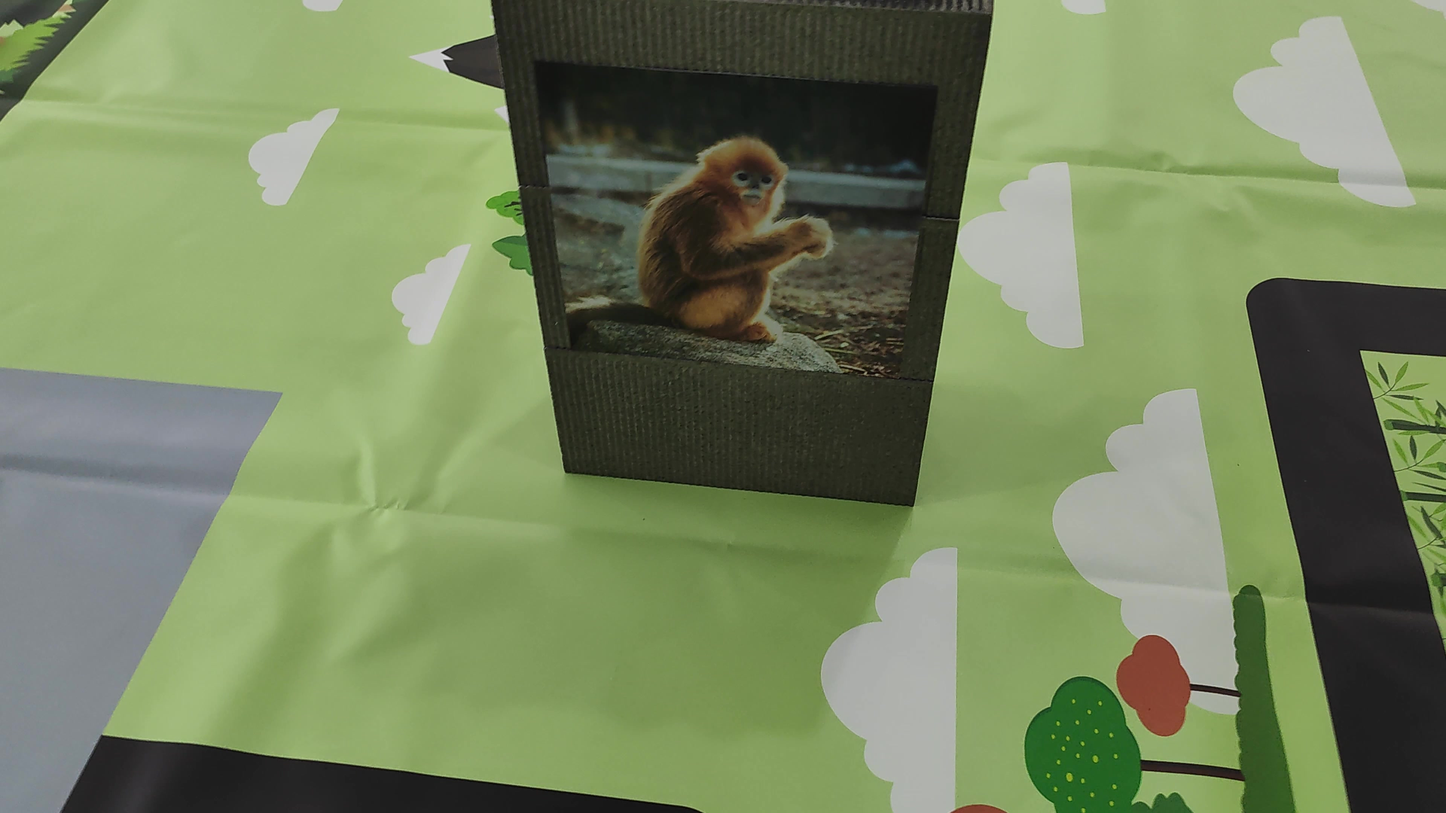monkey: (557, 84, 873, 380)
